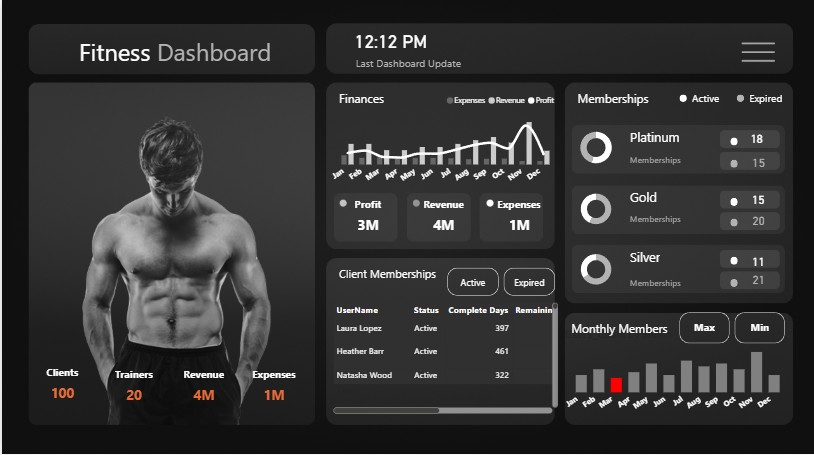

The page's visual inventory and layout, read from the dashboard file:
{"tool":"powerbi","page":{"name":"Page 1","canvas":[1280,720],"ordinal":0},"visuals":[{"type":"cardVisual","title":"Clients","fields":{"Data":["_Measures.Users_Count"]},"box":[40.9,558.4,110,95],"z":0},{"type":"cardVisual","title":"Clients","fields":{"Data":["Count(Users.Trainer Name)"]},"box":[151.4,559.1,110,95],"z":1000},{"type":"cardVisual","title":"Clients","fields":{"Data":["_Measures.Revenue"]},"box":[261.4,559.1,110,95],"z":2000},{"type":"cardVisual","title":"Clients","fields":{"Data":["_Measures.Expenses"]},"box":[371.4,559.1,110,95],"z":3000},{"type":"cardVisual","title":"Clients","fields":{"Data":["_Measures.Revenue"]},"box":[640.3,293.7,109.9,95.1],"z":4000},{"type":"cardVisual","title":"Clients","fields":{"Data":["_Measures.Expenses"]},"box":[750.2,293.7,126.8,95.1],"z":5000},{"type":"cardVisual","title":"Clients","fields":{"Data":["_Measures.profit"]},"box":[513.5,293.7,126.8,95.1],"z":6000},{"type":"lineClusteredColumnComboChart","title":"Clients","fields":{"Y":["_Measures.Expenses","_Measures.Revenue"],"Y2":["_Measures.Profit"],"Category":["Calender.Month"]},"box":[512.5,140,365,167.5],"z":7000},{"type":"shape","box":[530,140,135,32.5],"z":8000},{"type":"clusteredColumnChart","fields":{"Category":["Calender.Month"],"Y":["_Measures.Users_Count"]},"box":[881.2,517.8,359.3,147.9],"z":9000},{"type":"shape","box":[895,500,157.5,35],"z":10000},{"type":"advancedSlicerVisual","fields":{"Values":["Min_Max_Switch.type"]},"box":[1060.9,488.2,177.5,59.2],"z":11000},{"type":"tableEx","fields":{"Values":["Users.UserName","Users.Status","_Measures.Complete_Days","_Measures.Remaining_Days","_Measures.Days Left","_Measures.Total Days","_Measures.SVG_BarChart1"]},"box":[514,472,364,184],"z":12000},{"type":"advancedSlicerVisual","fields":{"Values":["Users.Status"]},"box":[696,418,180,54],"z":13000},{"type":"shape","box":[530,414,182,32],"z":14000},{"type":"shape","box":[986.8,387.5,156,36],"z":15000},{"type":"shape","box":[986.8,291.5,156,36],"z":16000},{"type":"shape","box":[986.8,197.5,156,38],"z":17000},{"type":"shape","box":[986.8,427.5,156,36],"z":18000},{"type":"shape","box":[986.8,327.5,156,36],"z":19000},{"type":"shape","box":[986.8,235.5,156,34],"z":20000},{"type":"donutChart","fields":{"Category":["Users.Status"],"Y":["_Measures.Platinum Users"]},"box":[896,198,78,72],"z":21000},{"type":"donutChart","fields":{"Y":["_Measures.Gold Users"],"Category":["Users.Status"]},"box":[896,294,78,70],"z":22000},{"type":"donutChart","fields":{"Y":["_Measures.Silver Users"],"Category":["Users.Status"]},"box":[896,390,78,70],"z":23000},{"type":"cardVisual","fields":{"Data":["_Measures.Active Platinum"]},"box":[1158.7,185.4,58.9,55.5],"z":24000},{"type":"cardVisual","fields":{"Data":["_Measures.Expire Platinum"]},"box":[1151.8,220.1,74.5,65.9],"z":25000},{"type":"cardVisual","fields":{"Data":["_Measures.Active Gold"]},"box":[1160.4,280.7,58.9,55.5],"z":26000},{"type":"cardVisual","fields":{"Data":["_Measures.Expire Gold"]},"box":[1151.8,311.9,74.5,65.9],"z":27000},{"type":"cardVisual","fields":{"Data":["_Measures.Active Silver"]},"box":[1160.4,377.8,58.9,55.5],"z":28000},{"type":"cardVisual","fields":{"Data":["_Measures.Expire Silver"]},"box":[1151.8,405.5,74.5,65.9],"z":29000},{"type":"shape","box":[1145,218,12,13],"z":30000},{"type":"shape","box":[1145,312,12,13],"z":31000},{"type":"shape","box":[1145,406,12,13],"z":32000},{"type":"shape","box":[1145,252,12,13],"z":33000},{"type":"shape","box":[1145,346,12,13],"z":34000},{"type":"shape","box":[1145,440,12,13],"z":35000},{"type":"shape","box":[906,140,136,32],"z":36000},{"type":"shape","box":[1064,150,12,12],"z":37000},{"type":"shape","box":[1156,150,12,12],"z":38000},{"type":"shape","box":[1084,140,66,32],"z":39000},{"type":"shape","box":[1176,140,66,32],"z":40000},{"type":"shape","box":[113.8,58.2,124,50],"z":41000},{"type":"shape","box":[237.8,58.2,192,50],"z":42000},{"type":"image","box":[1152,44,76,80],"z":43000},{"type":"cardVisual","fields":{"Data":["_Measures.last Refresh"]},"box":[528,26,168,58],"z":44000},{"type":"shape","box":[556,74,168,50],"z":45000}]}

Visuals, with their boxes in screenshot pixels (x1, y1, x2, y2), scaled from the page's 1280x720 canvas onto the 814x455 screenshot:
"Clients" cardVisual: 26/353/96/413
"Clients" cardVisual: 96/353/166/413
"Clients" cardVisual: 166/353/236/413
"Clients" cardVisual: 236/353/306/413
"Clients" cardVisual: 407/186/477/246
"Clients" cardVisual: 477/186/558/246
"Clients" cardVisual: 327/186/407/246
"Clients" lineClusteredColumnComboChart: 326/88/558/194
shape: 337/88/423/109
clusteredColumnChart - Calender.Month x _Measures.Users_Count: 560/327/789/421
shape: 569/316/669/338
advancedSlicerVisual - Min_Max_Switch.type: 675/309/788/346
tableEx - Users.UserName x Users.Status: 327/298/558/415
advancedSlicerVisual - Users.Status: 443/264/557/298
shape: 337/262/453/282
shape: 628/245/727/268
shape: 628/184/727/207
shape: 628/125/727/149
shape: 628/270/727/293
shape: 628/207/727/230
shape: 628/149/727/170
donutChart - Users.Status x _Measures.Platinum Users: 570/125/619/171
donutChart - _Measures.Gold Users x Users.Status: 570/186/619/230
donutChart - _Measures.Silver Users x Users.Status: 570/246/619/291
cardVisual - _Measures.Active Platinum: 737/117/774/152
cardVisual - _Measures.Expire Platinum: 732/139/780/181
cardVisual - _Measures.Active Gold: 738/177/775/212
cardVisual - _Measures.Expire Gold: 732/197/780/239
cardVisual - _Measures.Active Silver: 738/239/775/274
cardVisual - _Measures.Expire Silver: 732/256/780/298
shape: 728/138/736/146
shape: 728/197/736/205
shape: 728/257/736/265
shape: 728/159/736/167
shape: 728/219/736/227
shape: 728/278/736/286
shape: 576/88/663/109
shape: 677/95/684/102
shape: 735/95/743/102
shape: 689/88/731/109
shape: 748/88/790/109
shape: 72/37/151/68
shape: 151/37/273/68
image: 733/28/781/78
cardVisual - _Measures.last Refresh: 336/16/443/53
shape: 354/47/460/78
